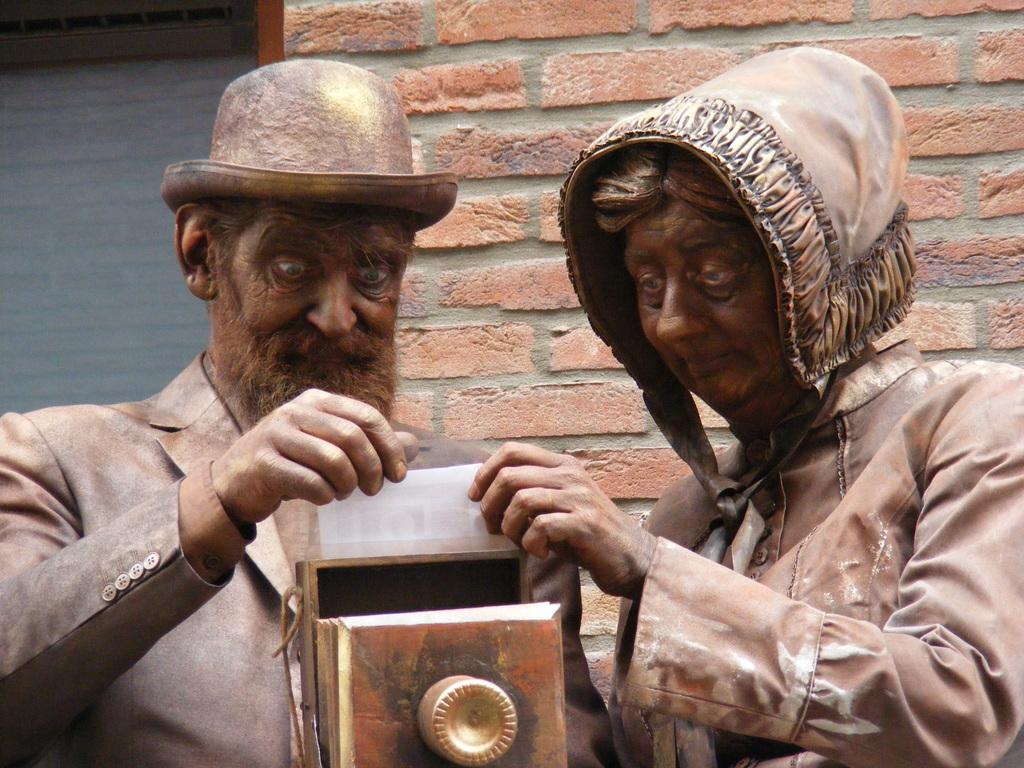Hat: (159, 59, 457, 233)
